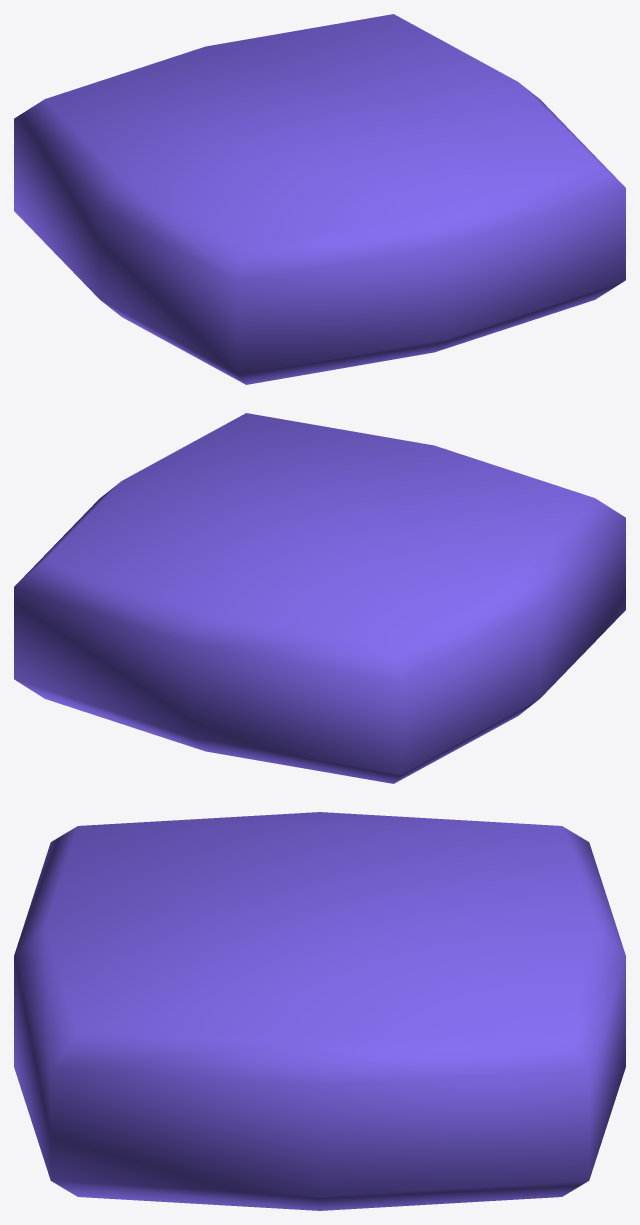
File: pillow.glb
3 renders of one model, top to bottom at view 1: azimuth 30°, elevation 25°; view 2: azimuth 150°, elevation 25°; view 3: azimuth 270°, elevation 25°, orthographic. The views are drawn at different scales.
Parts seen in each view (by area): view 1: mergedBlocks(Clone); view 2: mergedBlocks(Clone); view 3: mergedBlocks(Clone).
Boxes of the visible parts, x1=… form: mergedBlocks(Clone): x1=14, y1=14, x2=625, y2=384; mergedBlocks(Clone): x1=14, y1=413, x2=625, y2=783; mergedBlocks(Clone): x1=14, y1=812, x2=625, y2=1210.
Bounding box in the file's own units: 0.5 × 0.15 × 0.5.
